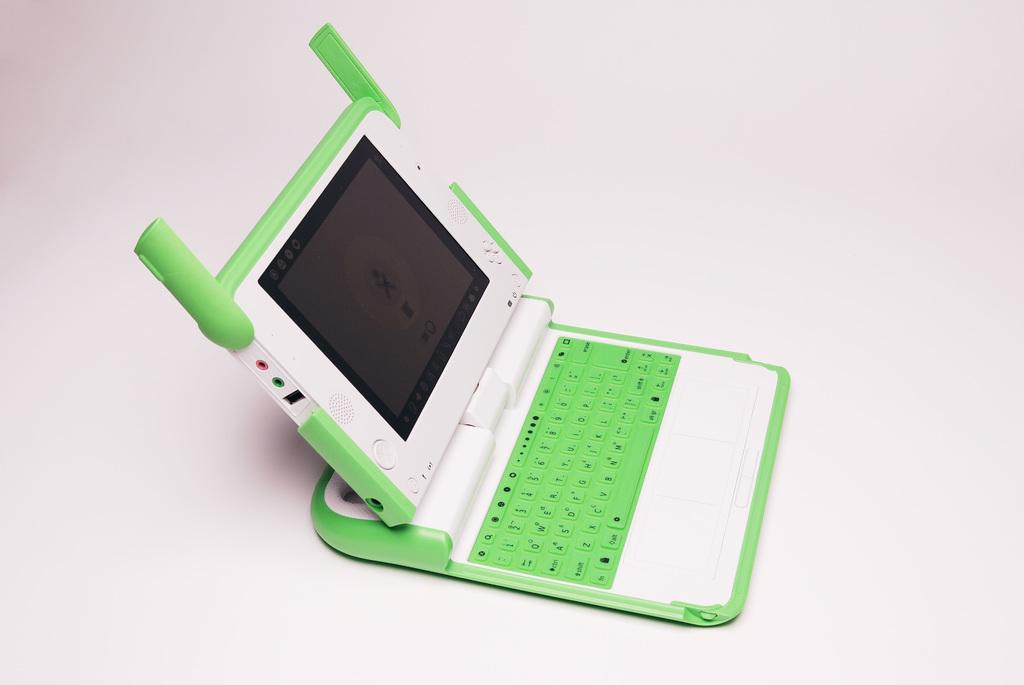Computer-keyboard: (467, 335, 680, 588)
